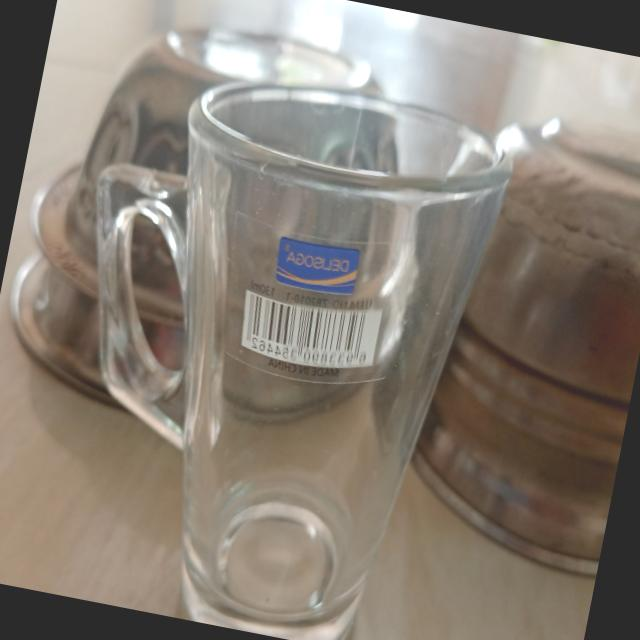glass-VX4N: (18, 35, 522, 640)
